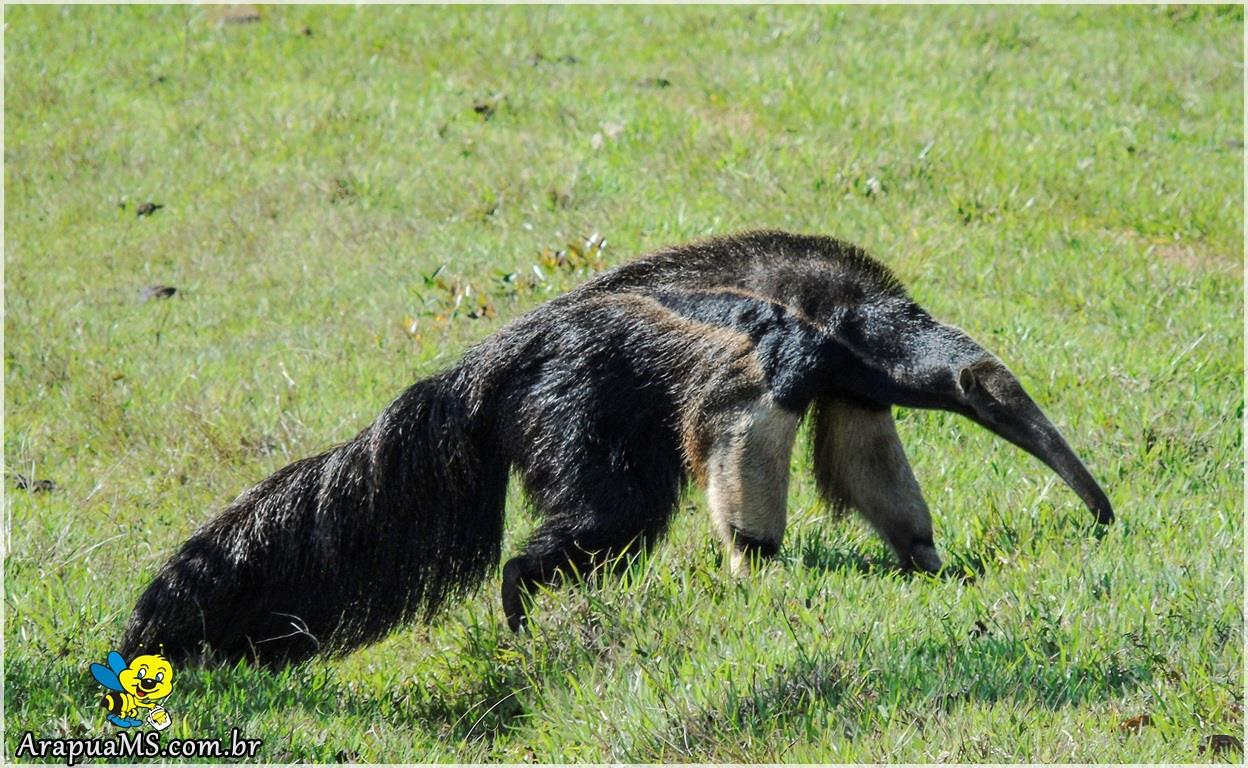TamanduaBandeira: (121, 219, 1116, 647)
